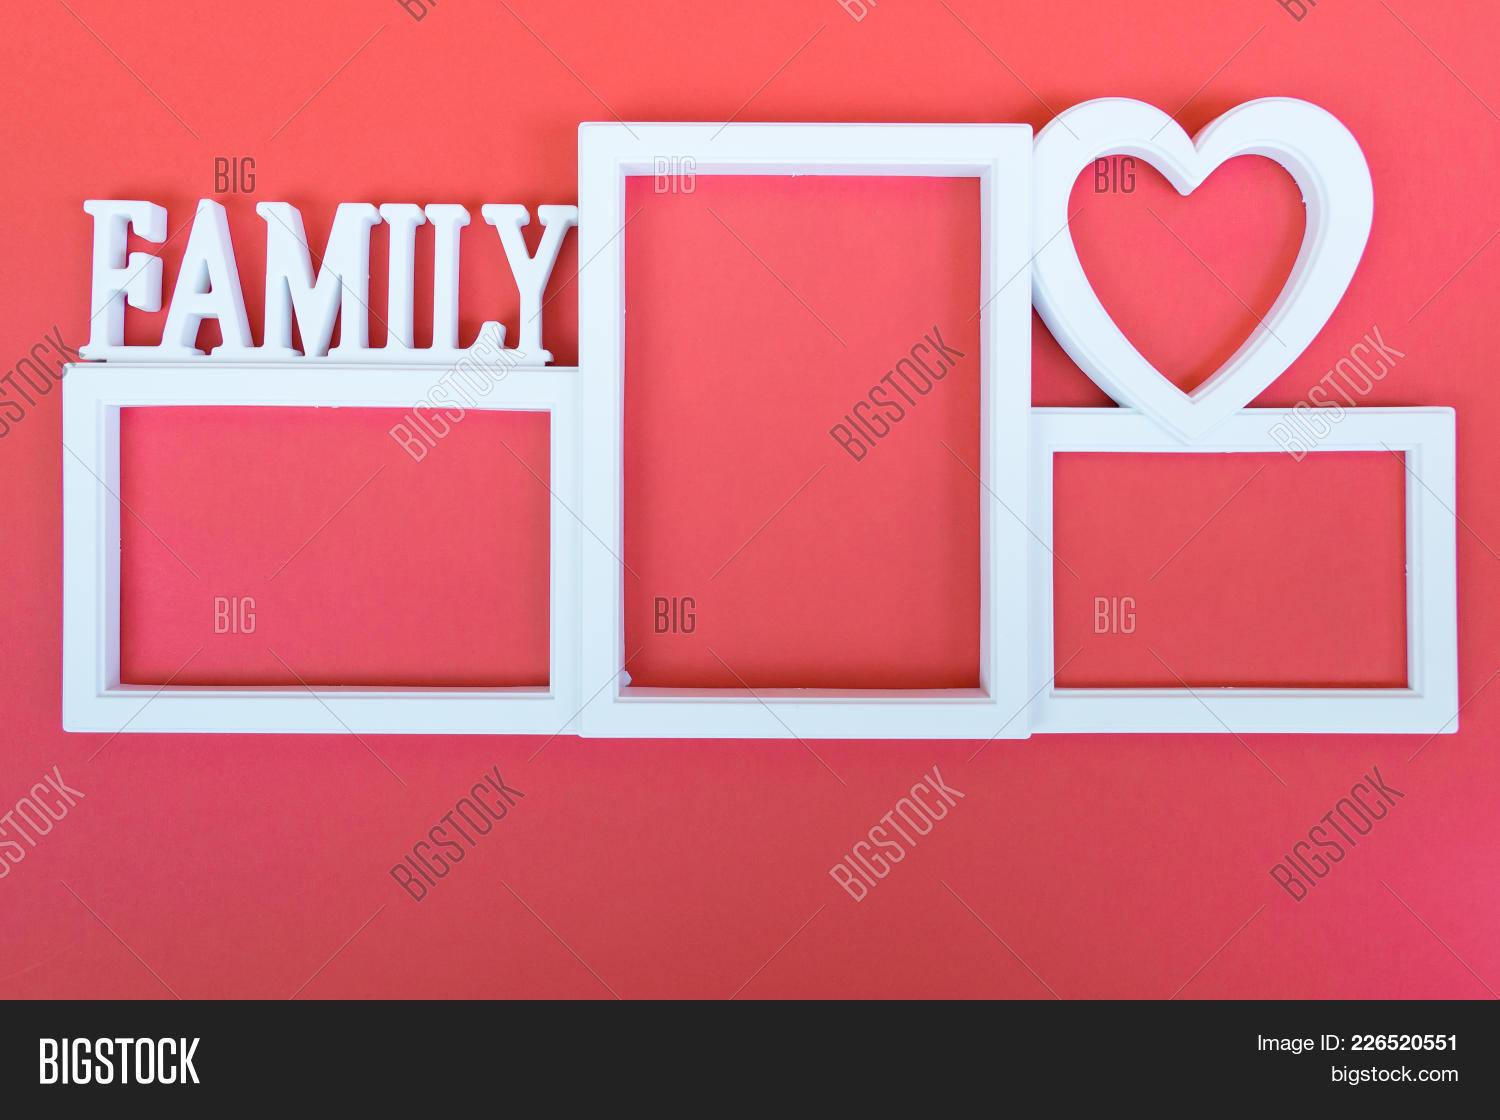foto: (49, 161, 1495, 852)
